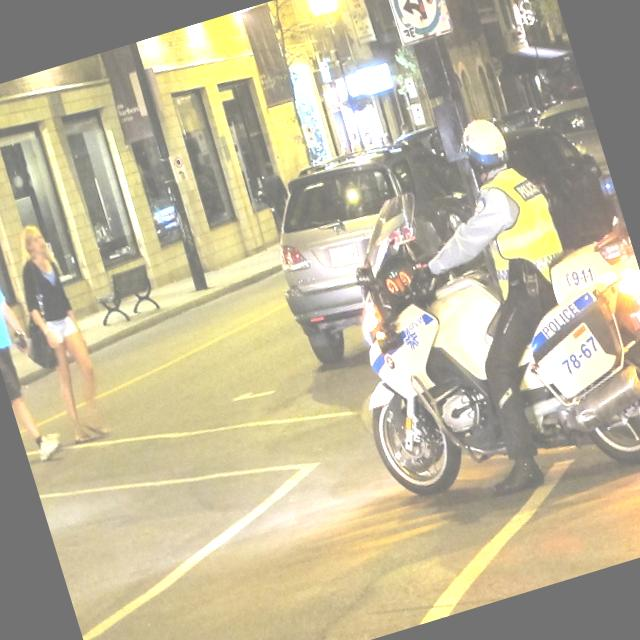Vehicle: (306, 133, 640, 538), (248, 138, 458, 374), (495, 112, 616, 260), (532, 92, 624, 238), (493, 107, 535, 136)
